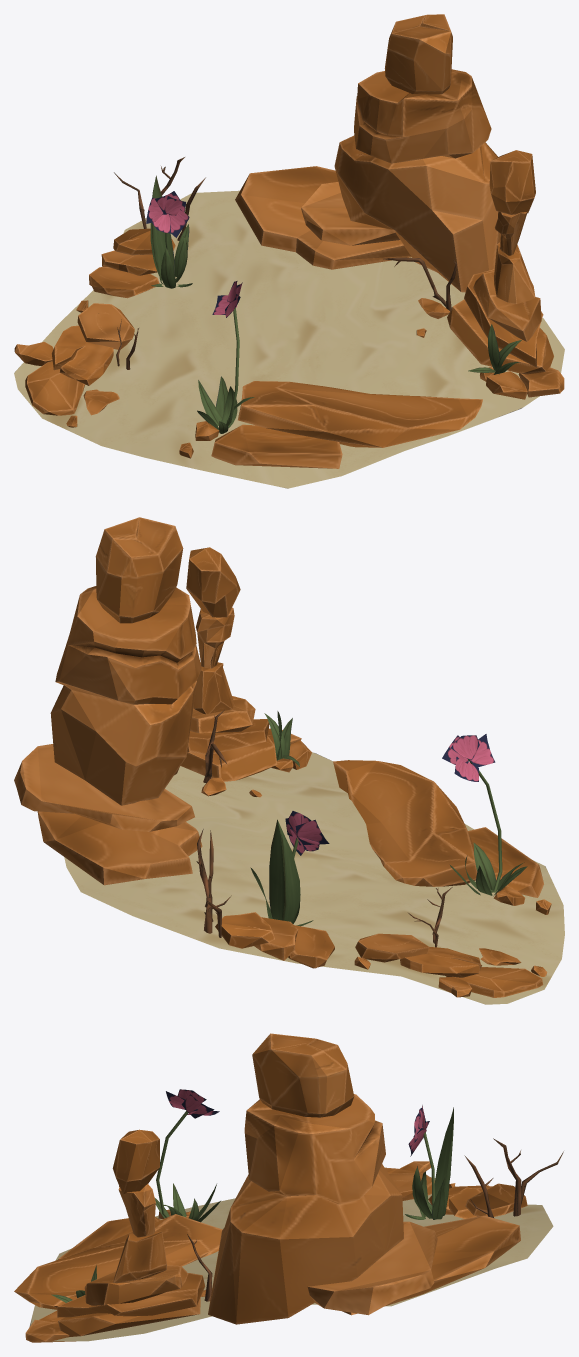
The model's file is desert.fbx.
The picture shows the model from 3 angles, top to bottom: view 1: azimuth 30°, elevation 25°; view 2: azimuth 150°, elevation 25°; view 3: azimuth 270°, elevation 25°; orthographic projection. The views are drawn at different scales.
Parts seen in each view (by area): view 1: OptimizedDesertLP002; view 2: OptimizedDesertLP002; view 3: OptimizedDesertLP002.
Boxes of the visible parts, x1,y1,x2,y2 form: OptimizedDesertLP002: (14, 14, 564, 488); OptimizedDesertLP002: (14, 517, 564, 1004); OptimizedDesertLP002: (14, 1033, 563, 1342).
Bounding box in the file's own units: 108 × 72.95 × 107.
Materials: 1 (1 with a texture image).
